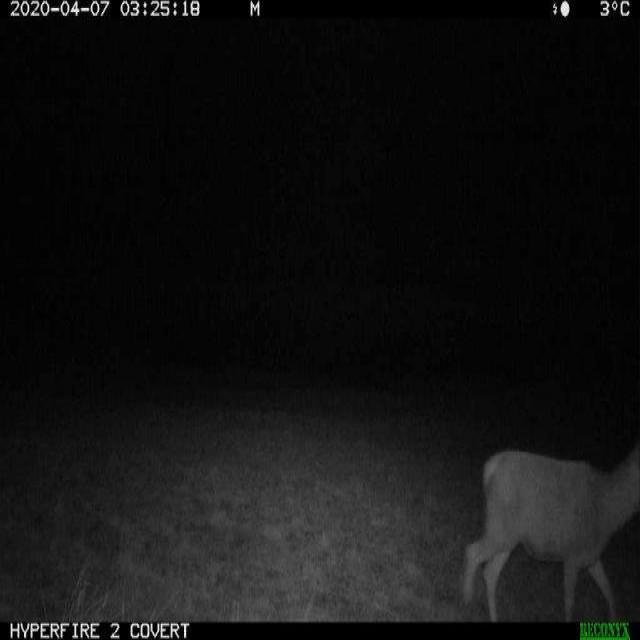deer: (452, 431, 640, 624)
